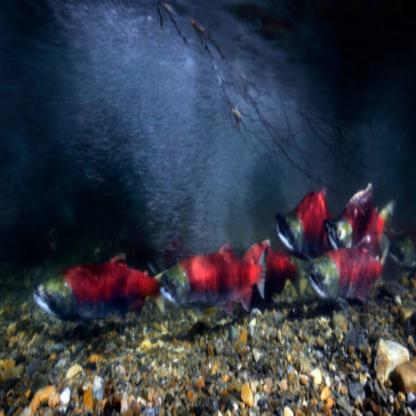sockeye: (37, 257, 158, 329), (158, 245, 263, 310), (335, 175, 391, 251), (302, 255, 386, 300), (279, 184, 329, 252)
